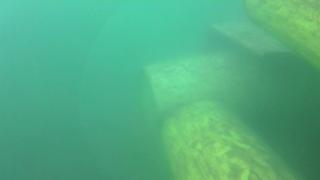pipe: (156, 96, 296, 180), (139, 49, 244, 136), (239, 1, 320, 76)
station: (208, 18, 320, 116)
